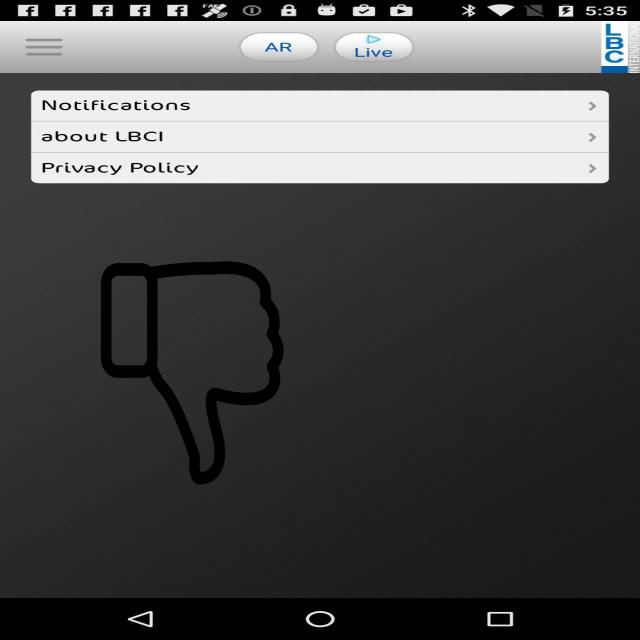obstruction: (98, 261, 286, 485)
